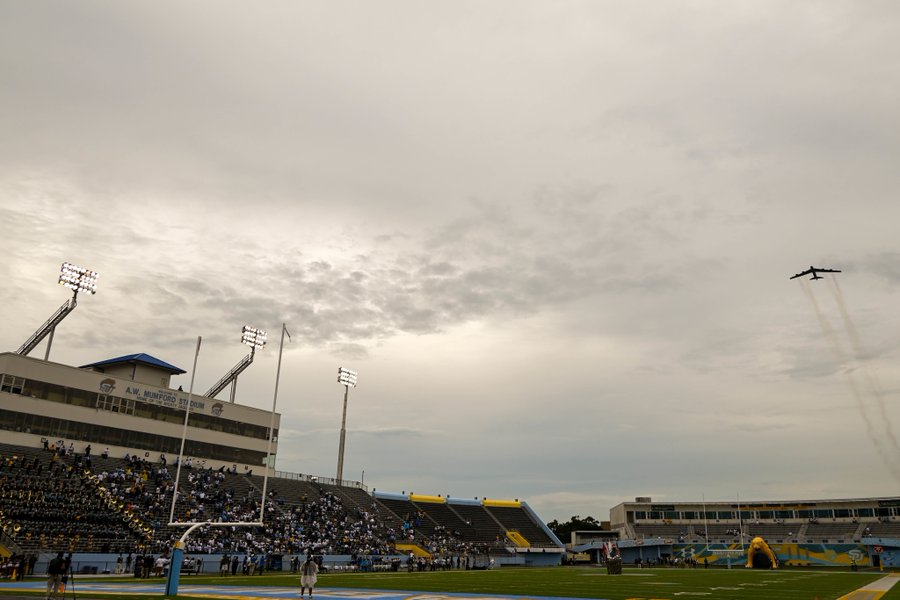B52: (789, 265, 842, 281)
